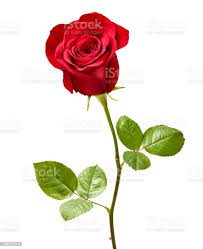lale: (38, 8, 157, 148)
